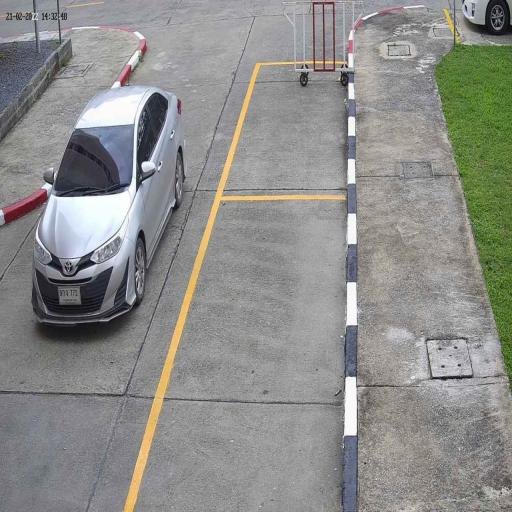car: (30, 85, 188, 328)
